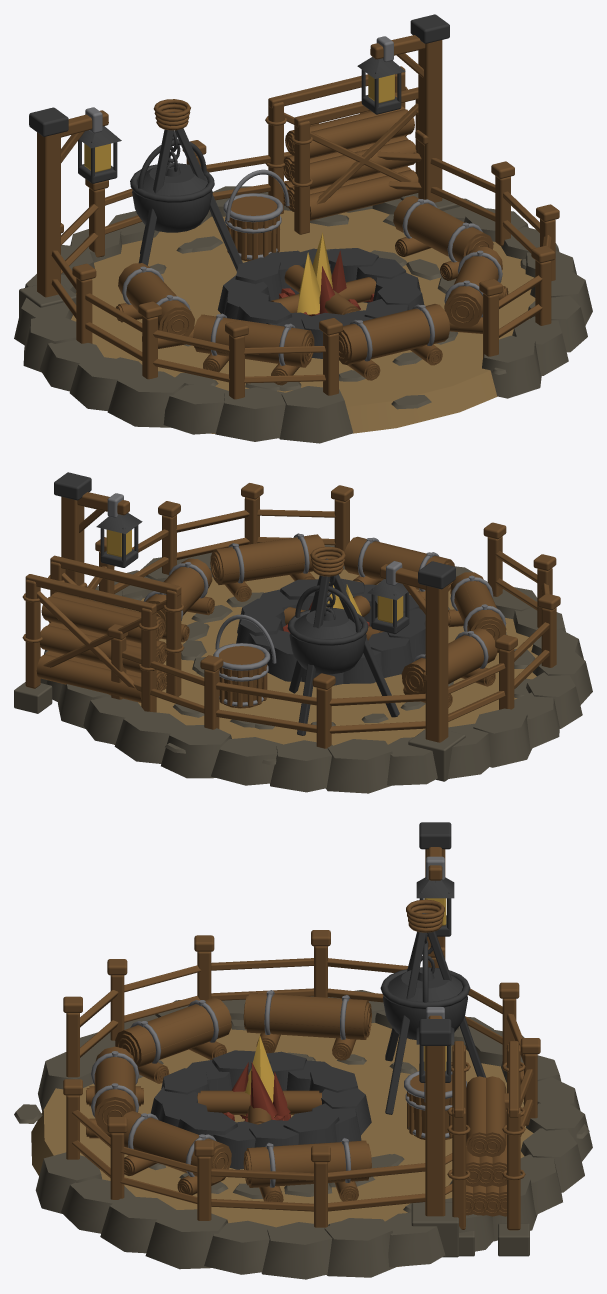
The model's file is campfire-area.glb.
3 renders of one model, top to bottom at view 1: azimuth 30°, elevation 25°; view 2: azimuth 150°, elevation 25°; view 3: azimuth 270°, elevation 25°, orthographic. The views are drawn at different scales.
Parts seen in each view (by area): view 1: campfire-area-farm-wood-shadow, campfire-area-farm-stone-dark, campfire-area-farm-dirt, campfire-area-farm-roof-slate, campfire-area-farm-metal, campfire-area-farm-gold, campfire-area-farm-barn-red-dark; view 2: campfire-area-farm-wood-shadow, campfire-area-farm-stone-dark, campfire-area-farm-roof-slate, campfire-area-farm-dirt, campfire-area-farm-metal, campfire-area-farm-gold; view 3: campfire-area-farm-wood-shadow, campfire-area-farm-stone-dark, campfire-area-farm-roof-slate, campfire-area-farm-dirt, campfire-area-farm-metal, campfire-area-farm-barn-red-dark, campfire-area-farm-gold.
Part boxes in pixels (x1,y1,x2,y2): campfire-area-farm-wood-shadow: (37,35,559,399); campfire-area-farm-stone-dark: (14,186,592,443); campfire-area-farm-dirt: (71,209,535,433); campfire-area-farm-roof-slate: (29,14,449,358); campfire-area-farm-metal: (85,36,502,365); campfire-area-farm-gold: (84,74,394,314); campfire-area-farm-barn-red-dark: (279,250,374,316); campfire-area-farm-wood-shadow: (22,483,560,748); campfire-area-farm-stone-dark: (14,545,592,793); campfire-area-farm-roof-slate: (54,472,455,735); campfire-area-farm-dirt: (114,569,537,745); campfire-area-farm-metal: (107,493,506,706); campfire-area-farm-gold: (106,529,403,623); campfire-area-farm-wood-shadow: (63,847,540,1230); campfire-area-farm-stone-dark: (14,990,592,1279); campfire-area-farm-roof-slate: (151,822,486,1169); campfire-area-farm-dirt: (31,1023,533,1266); campfire-area-farm-metal: (91,856,466,1187); campfire-area-farm-barn-red-dark: (223,1062,290,1121); campfire-area-farm-gold: (242,898,446,1116).
Size of the model in its own units: 8.13 by 3.23 by 7.59.
